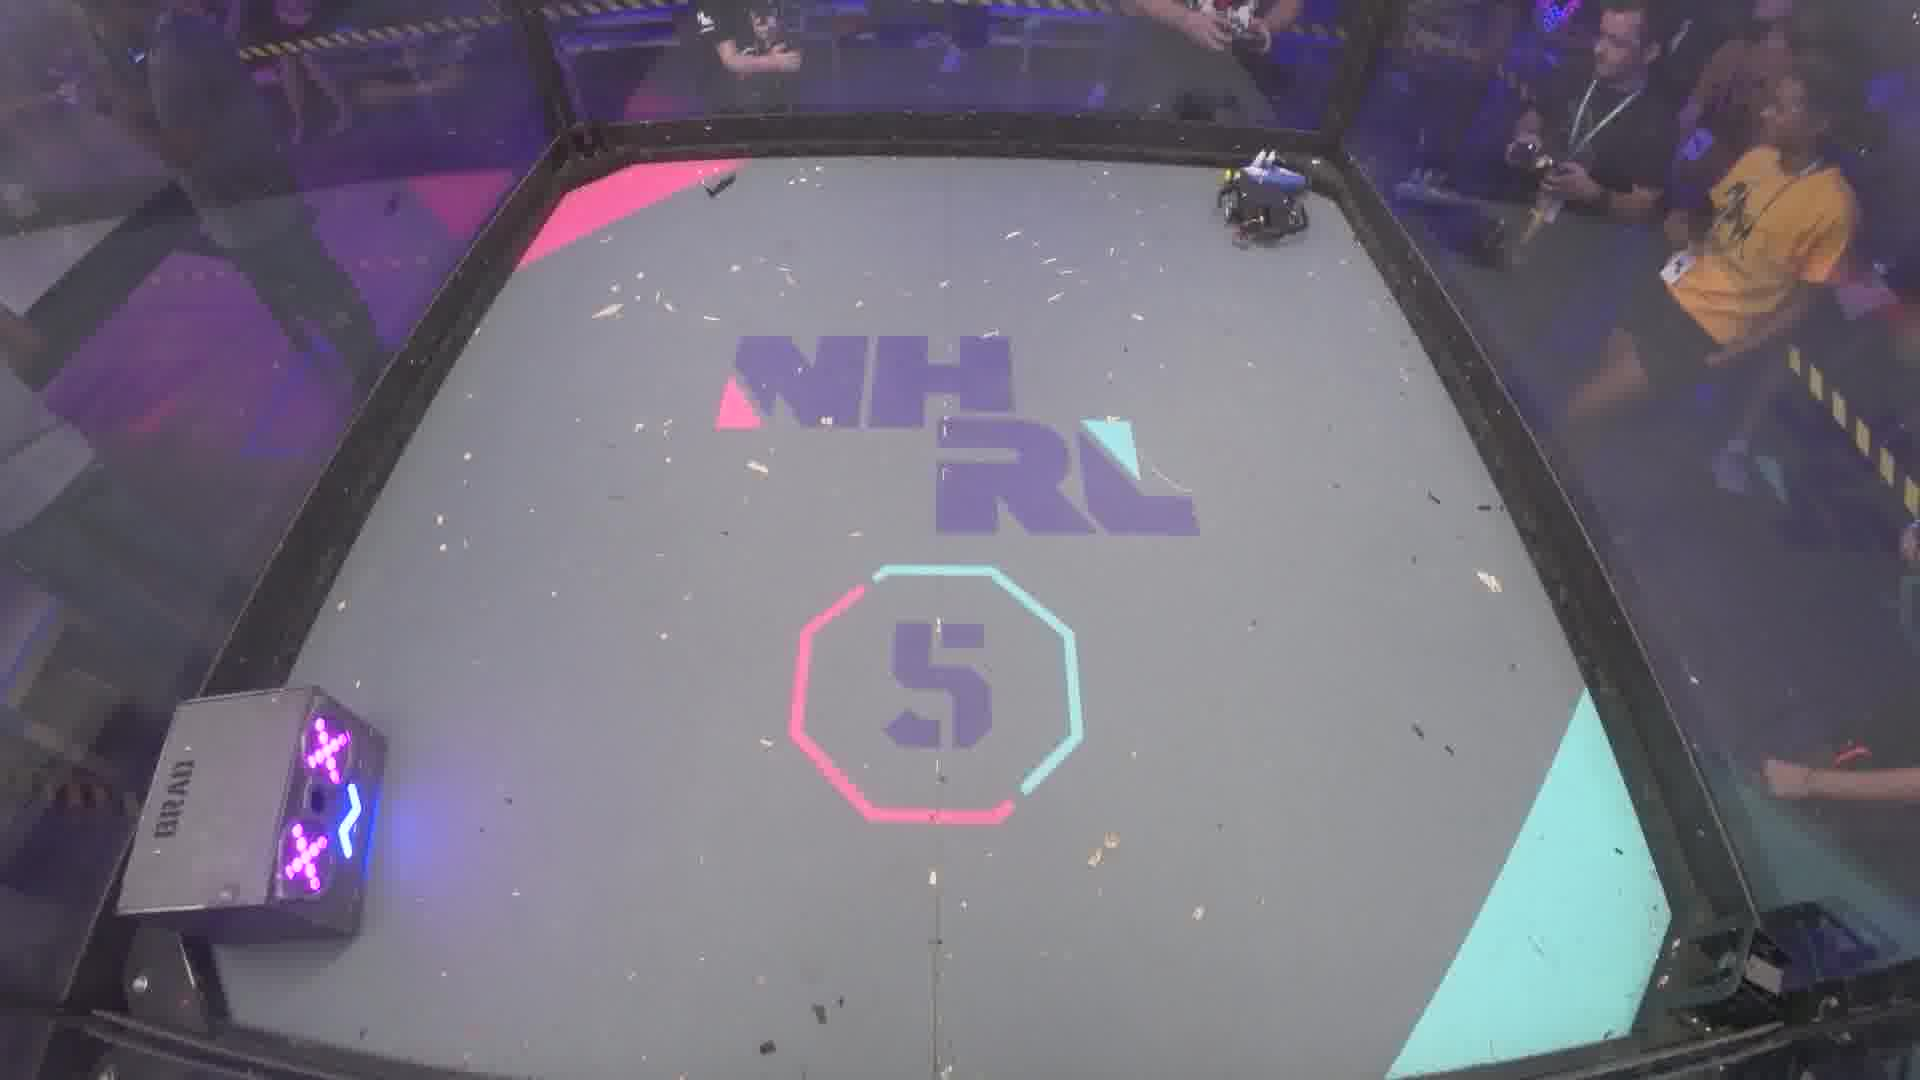combatbot: (1213, 183, 1311, 248), (1225, 152, 1304, 187)
housebot: (113, 684, 392, 942)
minibot: (704, 169, 740, 198)
